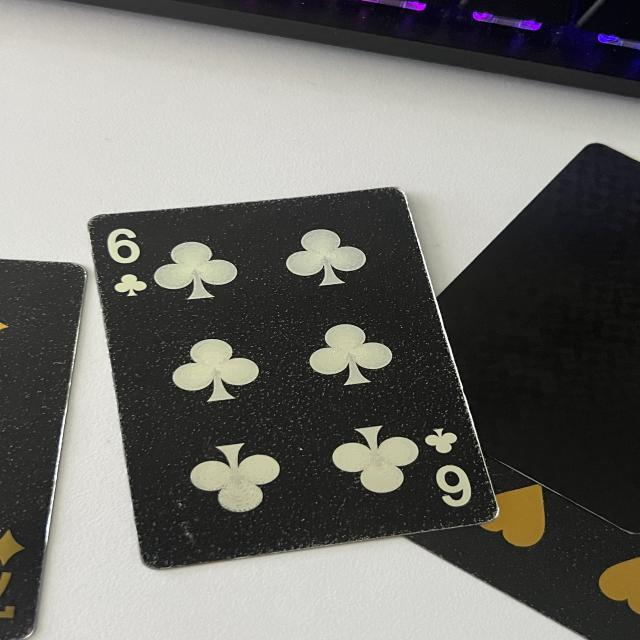6C: (416, 420, 485, 510), (98, 229, 156, 304)
BACK: (428, 140, 640, 549)
